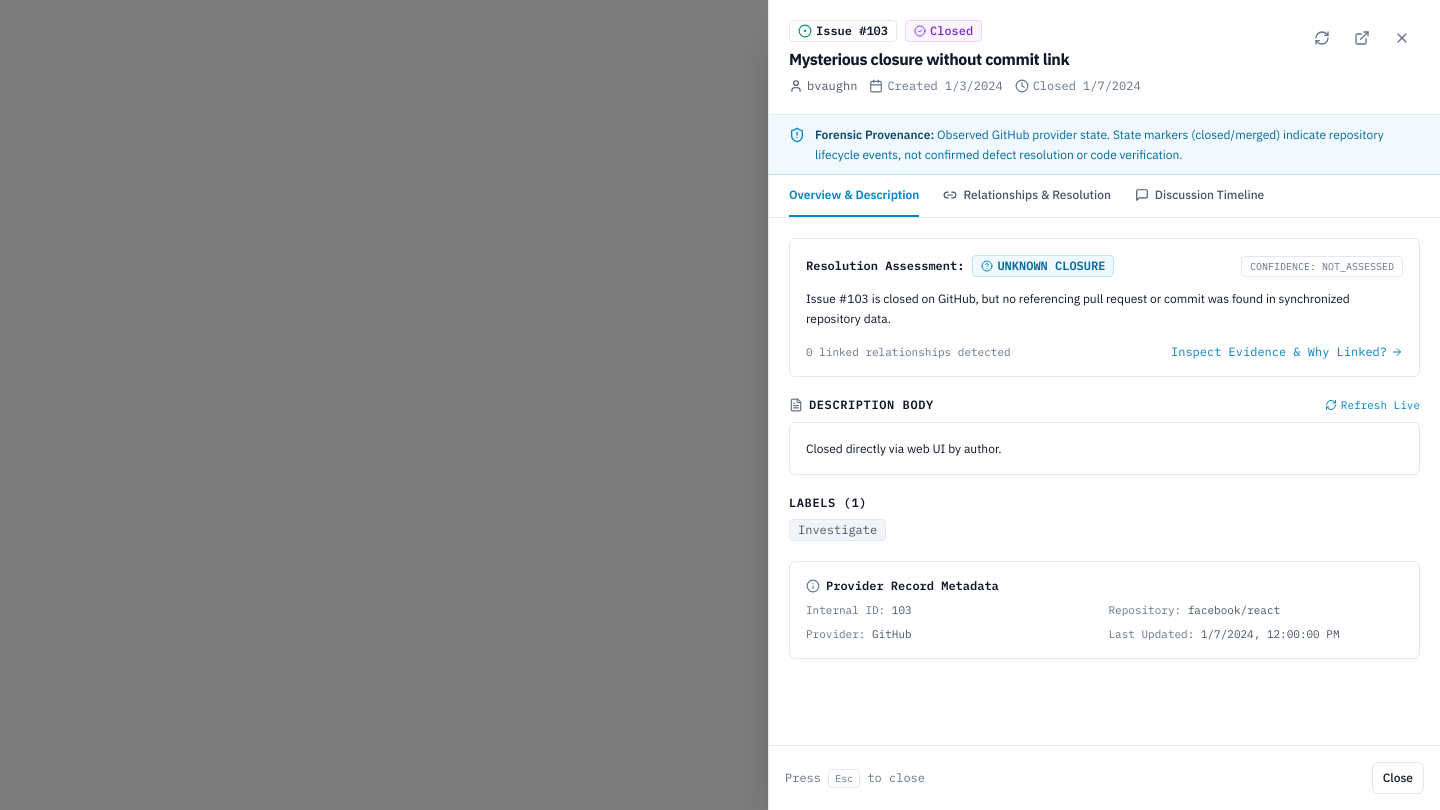
Phase 6: Explainable "Why Linked?" & Resolution UI Experience › displays conservative UNKNOWN CLOSURE state when closed issue has no linked PR
Expected: the heading "Mysterious closure without commit link" is shown, x1=789 y1=49 x2=1069 y2=69
Expected: the text "UNKNOWN CLOSURE" is shown, x1=972 y1=255 x2=1114 y2=277
Note: Switch to Relationships tab
Step 1. Click the button "Relationships & Resolution" → click(1027, 196), box x1=943 y1=175 x2=1111 y2=217
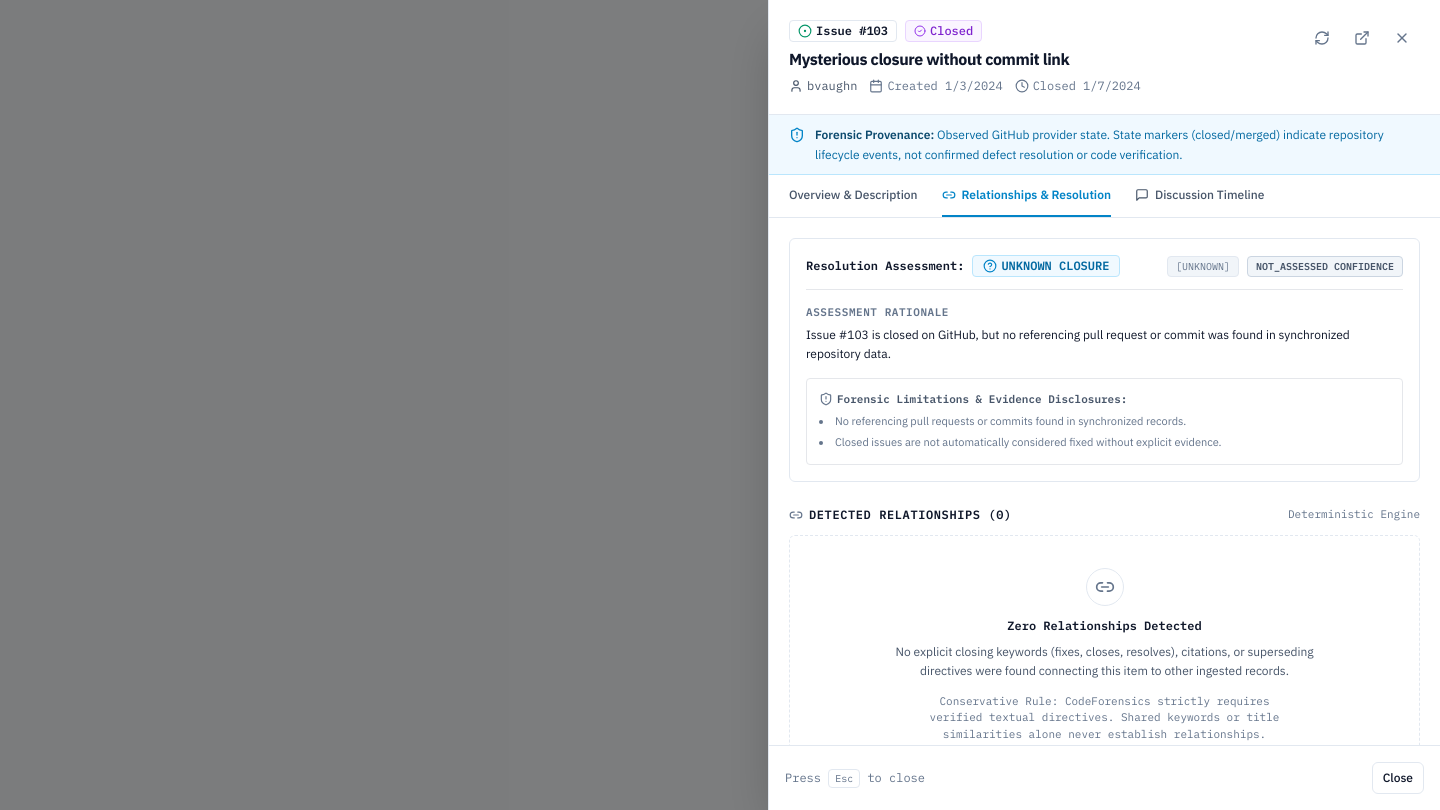
Expected: the heading "Zero Relationships Detected" is shown, x1=1007 y1=618 x2=1202 y2=633
Expected: the text "Conservative Rule: CodeForensics strictly requires verified textual directives" is shown, x1=930 y1=694 x2=1279 y2=741
Expected: the list item "No referencing pull requests or commits found in synchronized records" is shown, x1=835 y1=414 x2=1186 y2=428
